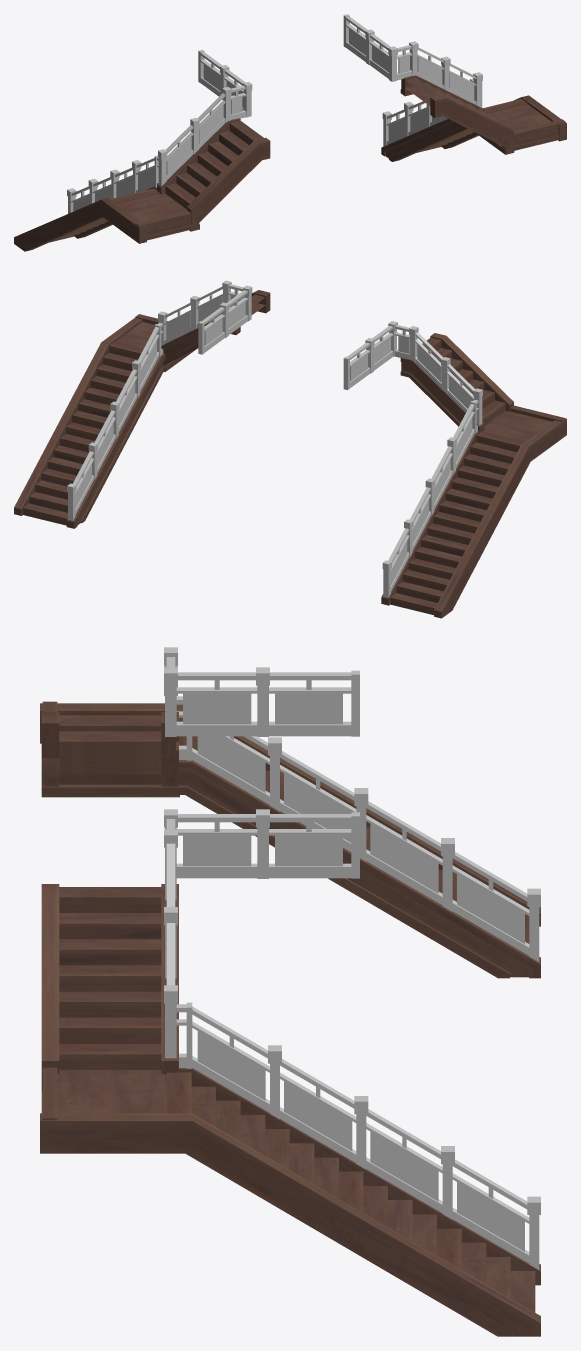
The model's file is Homeworld_Interior_Ly_Room_D_Stair_01_Vo.fbx.
3 renders of one model, top to bottom at view 1: azimuth 30°, elevation 25°; view 2: azimuth 150°, elevation 25°; view 3: azimuth 270°, elevation 25°, orthographic. The views are drawn at different scales.
Visible parts, largest first — view 1: Homeworld_Interior_Ly_Room_D_Stair_01_Vo; view 2: Homeworld_Interior_Ly_Room_D_Stair_01_Vo; view 3: Homeworld_Interior_Ly_Room_D_Stair_01_Vo.
Part boxes in pixels (box(x1,y1,x2,y2)): Homeworld_Interior_Ly_Room_D_Stair_01_Vo: box(14, 14, 566, 251); Homeworld_Interior_Ly_Room_D_Stair_01_Vo: box(14, 280, 566, 618); Homeworld_Interior_Ly_Room_D_Stair_01_Vo: box(40, 647, 540, 1336).
Size of the model in its own units: 14.7 by 6.35 by 7.46.
